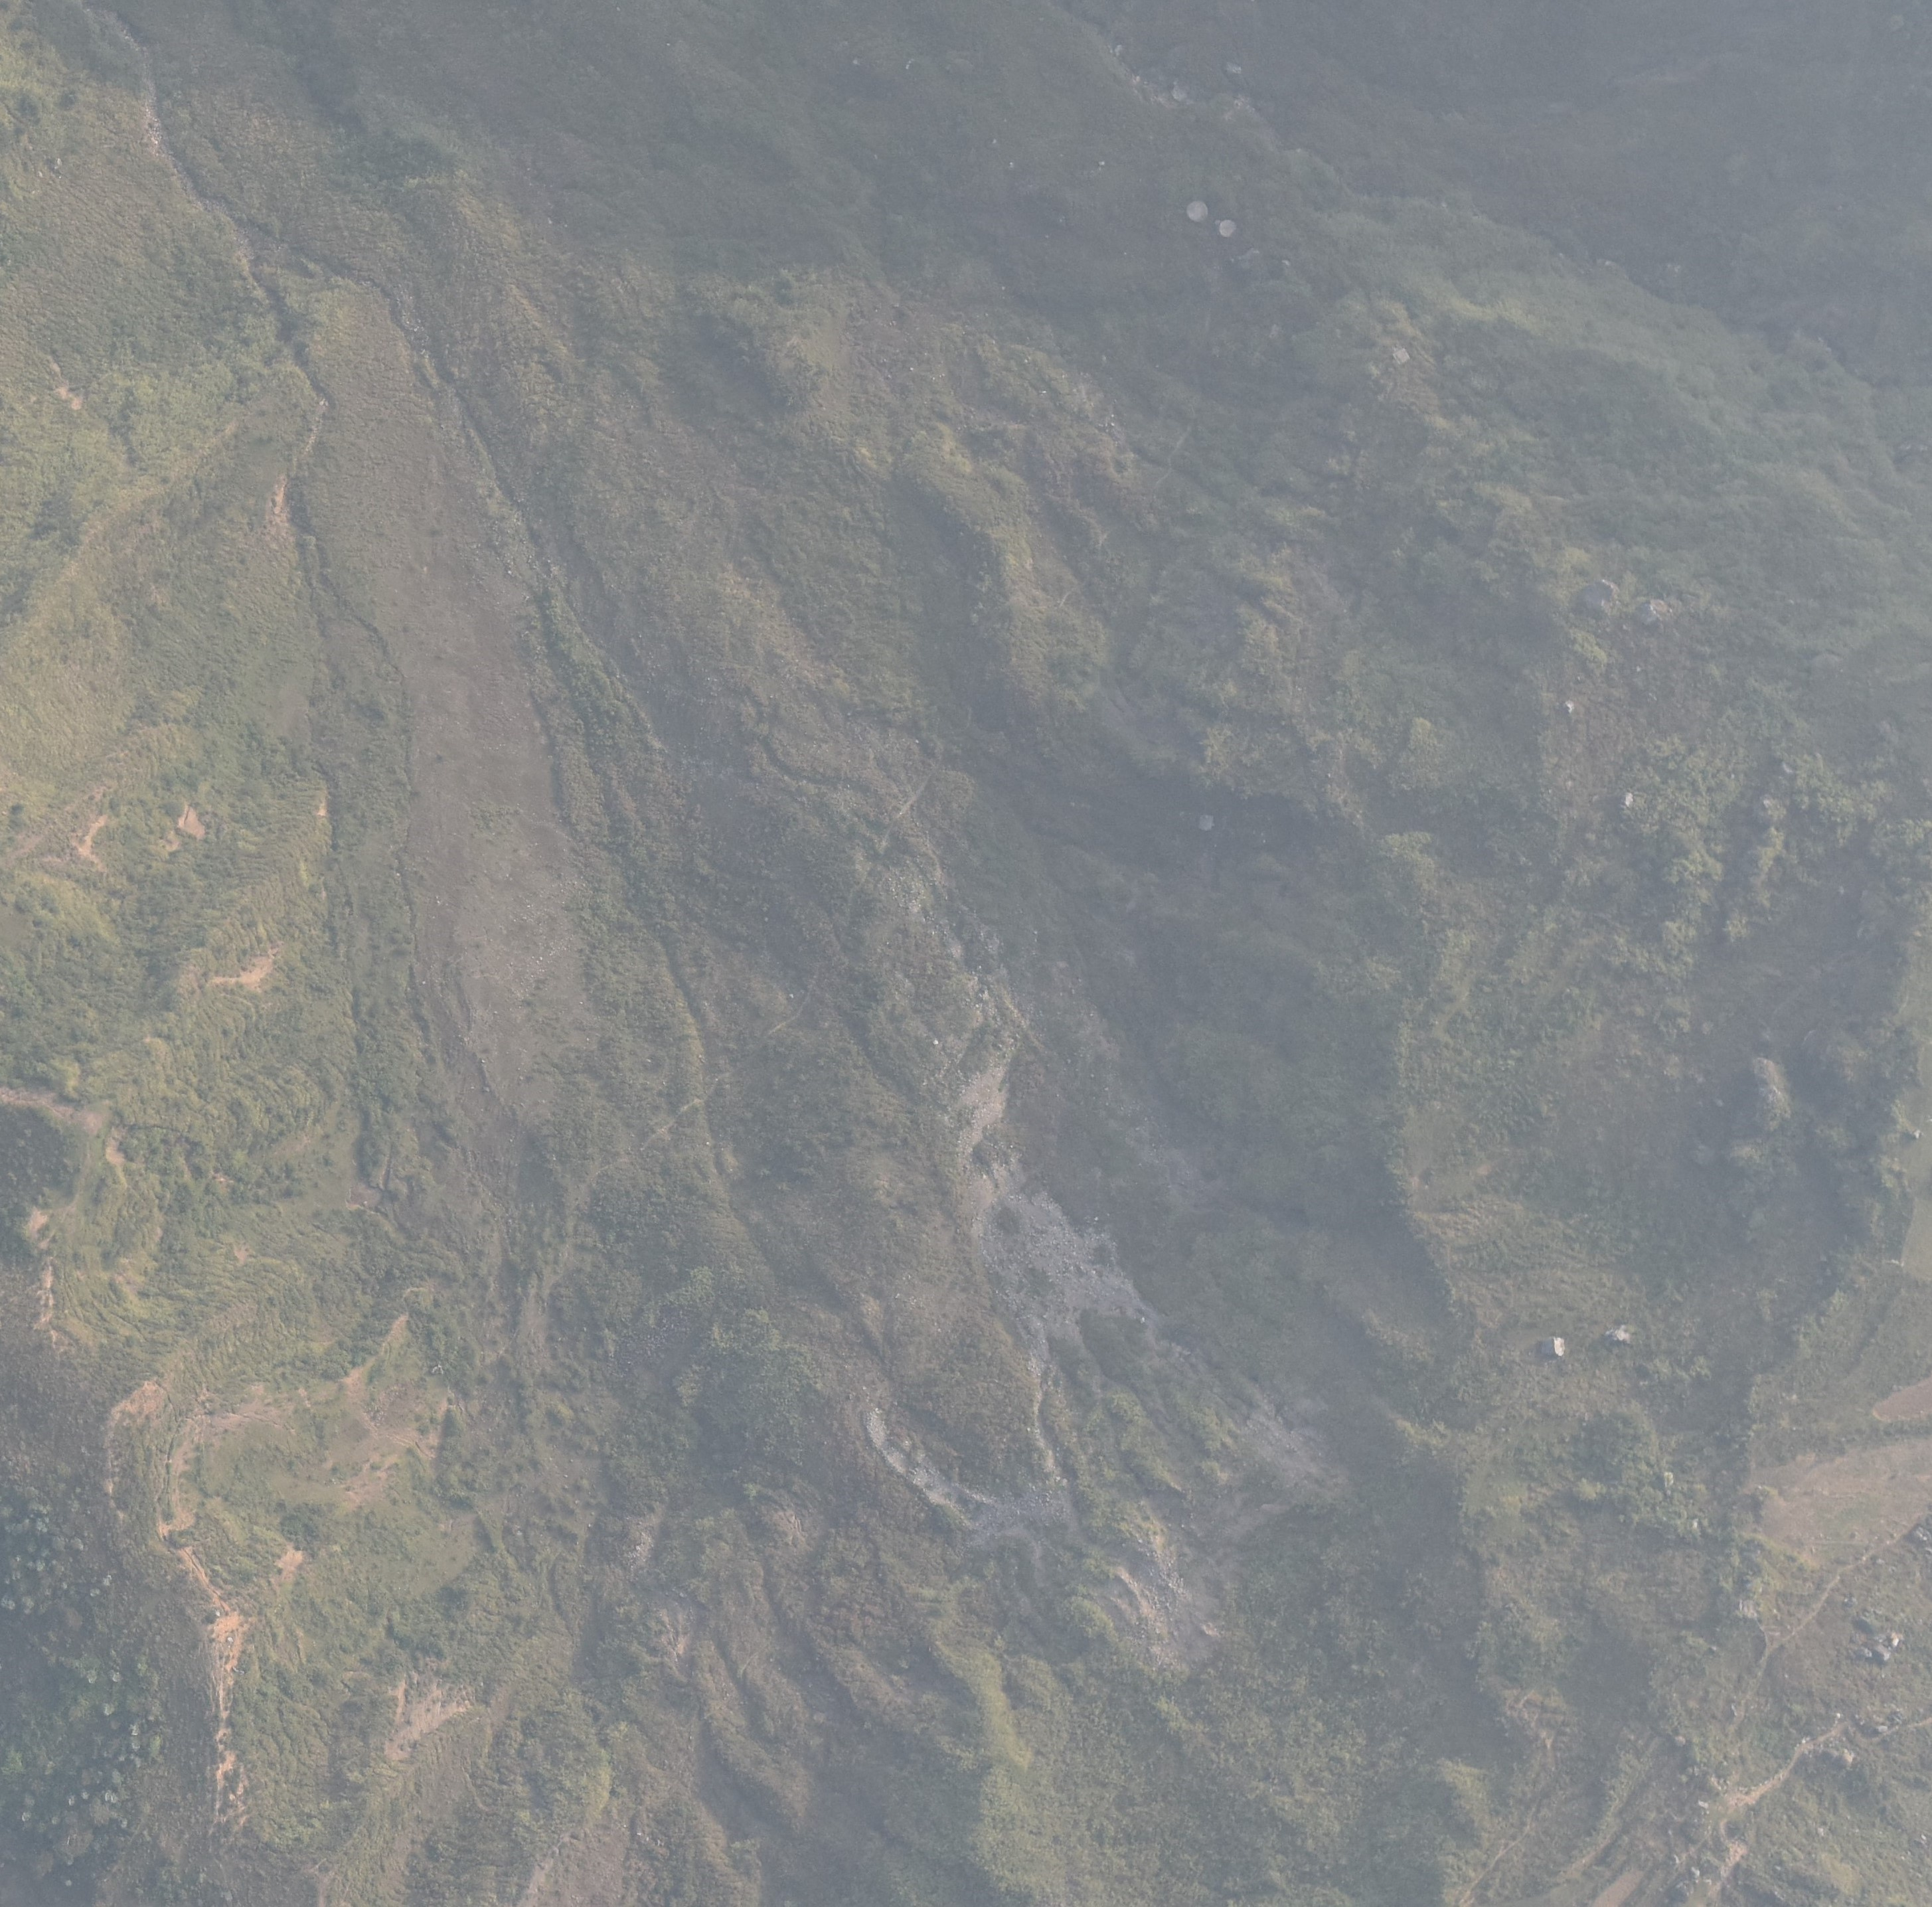building: (1542, 1336, 1567, 1360)
landslide: (307, 269, 821, 1325), (830, 850, 1350, 1703)
well: (1188, 197, 1209, 225), (1218, 215, 1242, 236)
